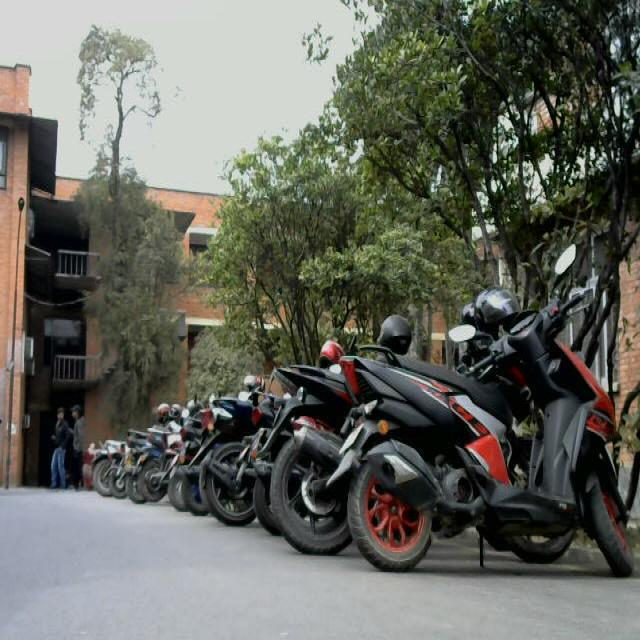Bike: (338, 277, 640, 576), (268, 344, 344, 550)
Road: (10, 491, 299, 638)
trees: (326, 0, 640, 239), (73, 14, 181, 404), (4, 190, 38, 500)
